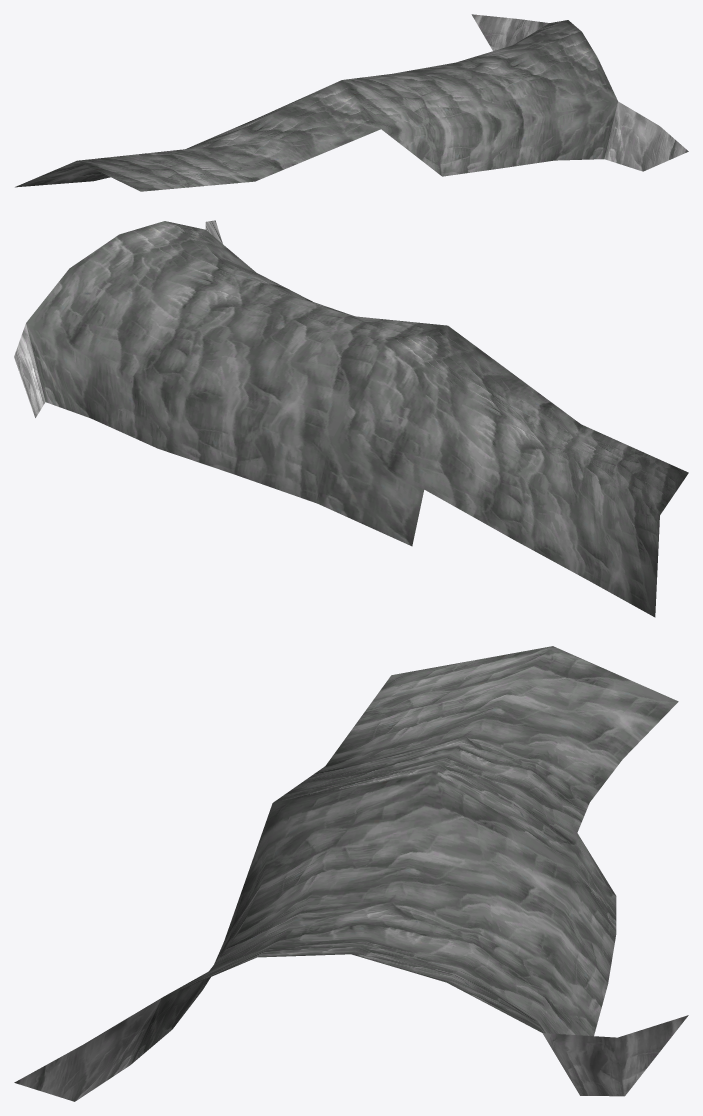
Rendered from SWORDLIGHT20_PS-AREA03_42.fbx.
The picture shows the model from 3 angles, top to bottom: view 1: azimuth 30°, elevation 25°; view 2: azimuth 150°, elevation 25°; view 3: azimuth 270°, elevation 25°; orthographic projection. The views are drawn at different scales.
Parts seen in each view (by area): view 1: SWORDLIGHT20_PS-AREA03_42; view 2: SWORDLIGHT20_PS-AREA03_42; view 3: SWORDLIGHT20_PS-AREA03_42.
Part boxes in pixels (<box>): SWORDLIGHT20_PS-AREA03_42: <box>15,14,688,191</box>; SWORDLIGHT20_PS-AREA03_42: <box>14,220,688,617</box>; SWORDLIGHT20_PS-AREA03_42: <box>14,646,688,1101</box>.
Size of the model in its own units: 258637 by 53844 by 159750.
Materials: 2 (2 with a texture image).
